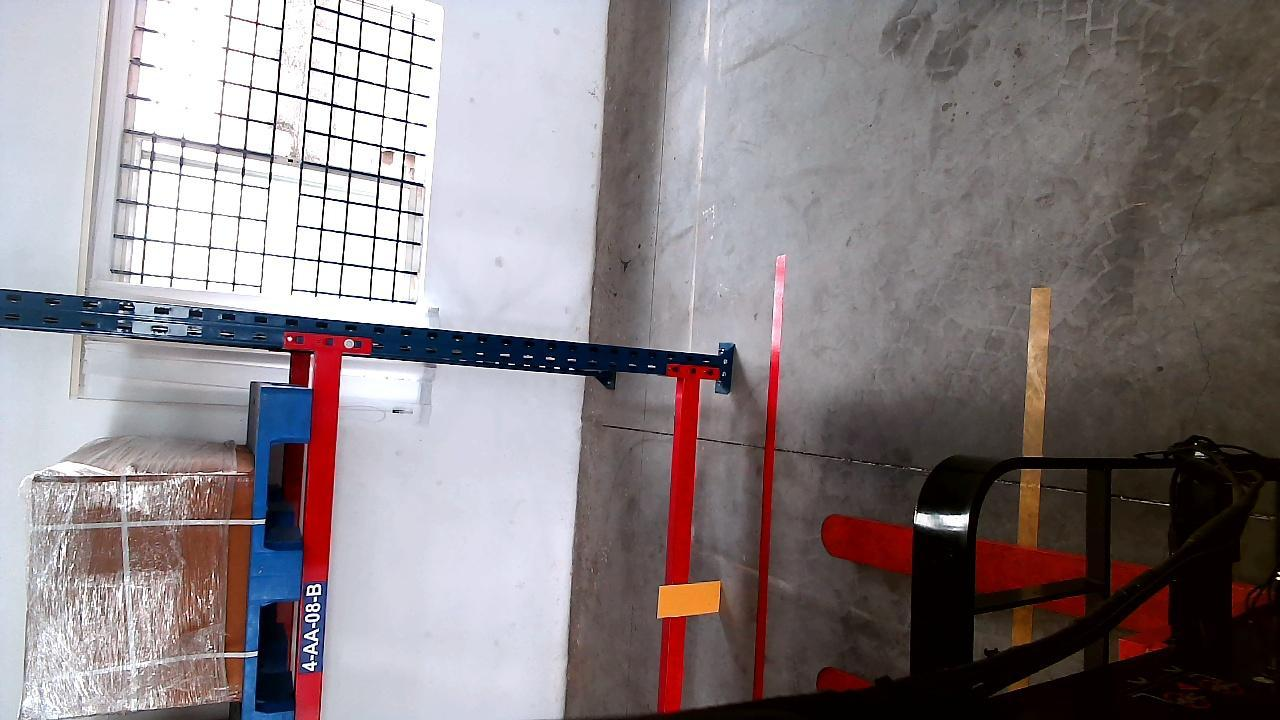red_line: (752, 255, 788, 696)
yellow_line: (1012, 283, 1049, 548)
